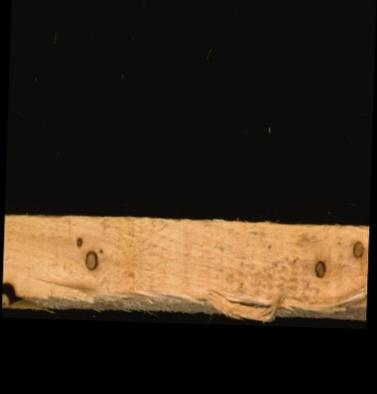dry_knot: (83, 248, 98, 270), (312, 258, 325, 278), (351, 238, 364, 257), (75, 235, 83, 247)
edge_knot: (1, 280, 25, 305)
